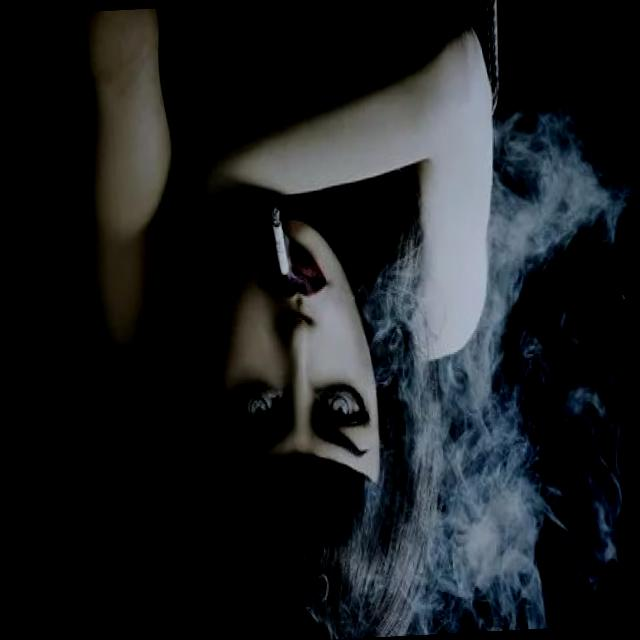cigarette: (267, 200, 293, 282)
